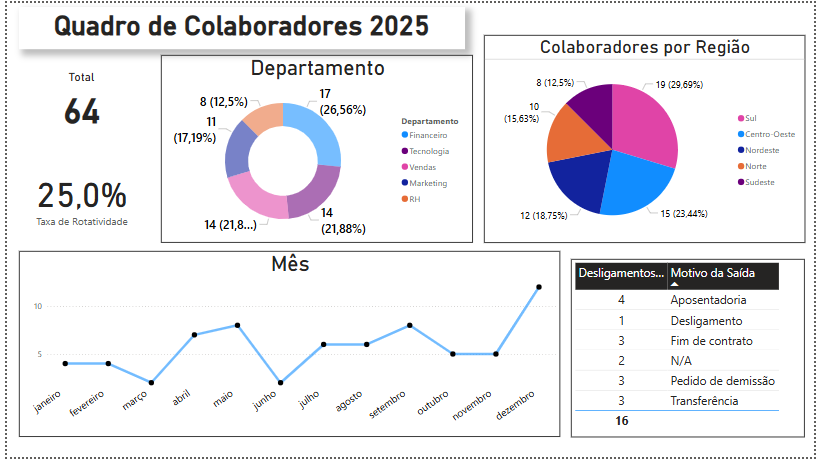

The dashboard page shown, as its layout file describes it:
{"tool":"powerbi","page":{"name":"Headcounts","canvas":[1280,720],"ordinal":0},"visuals":[{"type":"donutChart","title":"Departamento","fields":{"Category":["Sheet1.Departamento"],"Y":["Sheet1.ativos"]},"box":[244.4,82.5,495.2,298.4],"z":0},{"type":"card","title":"Total ","fields":{"Values":["Sheet1.ativos"]},"box":[19,106.3,198.4,95.2],"z":1000},{"type":"lineChart","title":"Mês ","fields":{"Category":["Sheet1.Data de Admissã.Variation.Hierarquia de datas.Mês"],"Y":["Calendario.Headcount Acumulado"]},"box":[19,393.7,858.7,295.2],"z":2000},{"type":"textbox","box":[19,6.3,707.9,66.7],"z":3000},{"type":"pieChart","title":"Colaboradores por Região","fields":{"Category":["Sheet1.Região"],"Y":["Sheet1.ativos"]},"box":[757.1,50.8,509.5,330.2],"z":4000},{"type":"tableEx","fields":{"Values":["Calendario.Desligamentos Últimos 12 Meses","Sheet1.Motivo da Saída"]},"box":[895.2,406.3,371.4,282.5],"z":5000},{"type":"card","fields":{"Values":["Calendario.Turnover"]},"box":[6.3,255.6,225.4,104.8],"z":5001}]}

Visuals, with their boxes in screenshot pixels (x1, y1, x2, y2), scaled from the page's 1280x720 canvas onto the 819x459 screenshot:
"Departamento" donutChart: {"left": 156, "top": 53, "right": 473, "bottom": 243}
"Total " card: {"left": 12, "top": 68, "right": 139, "bottom": 128}
"Mês " lineChart: {"left": 12, "top": 251, "right": 562, "bottom": 439}
textbox: {"left": 12, "top": 4, "right": 465, "bottom": 47}
"Colaboradores por Região" pieChart: {"left": 484, "top": 32, "right": 810, "bottom": 243}
tableEx - Calendario.Desligamentos Últimos 12 Meses x Sheet1.Motivo da Saída: {"left": 573, "top": 259, "right": 810, "bottom": 439}
card - Calendario.Turnover: {"left": 4, "top": 163, "right": 148, "bottom": 230}
